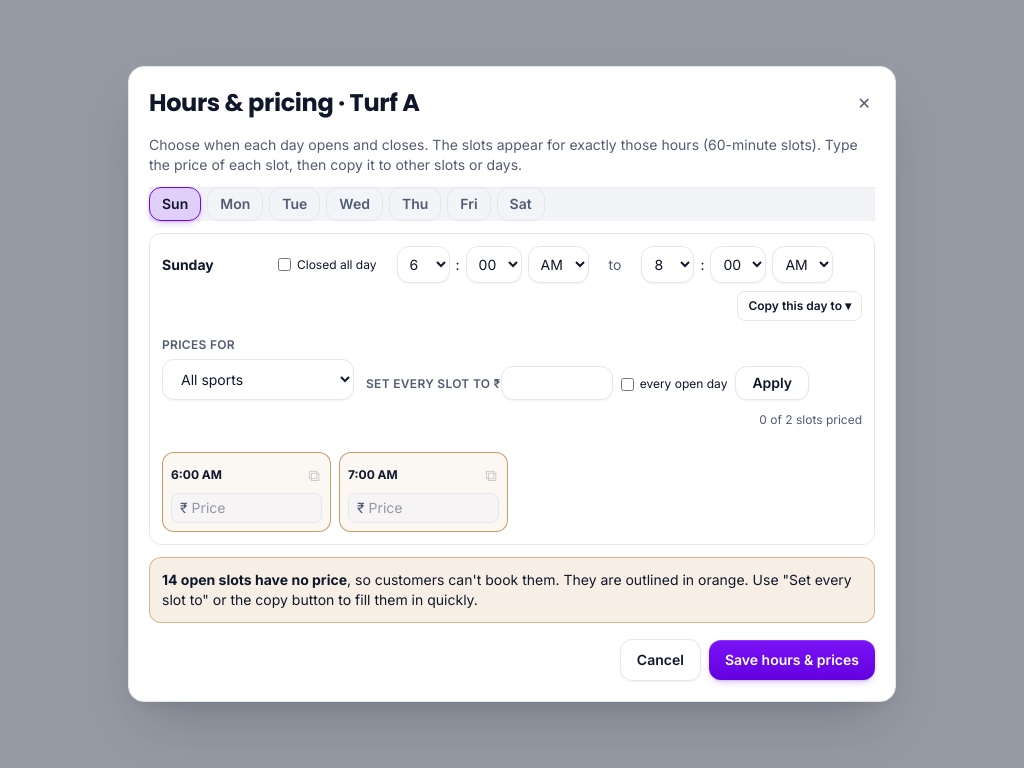
Scenario: a price under each slot › warns about open slots that have no price and counts them
Expected: the text "14 open slots have no price" is shown, top-left (162, 571), bottom-right (347, 588)
Click the tab "Mon".
click(235, 204)  # box top-left (207, 187), bottom-right (263, 221)
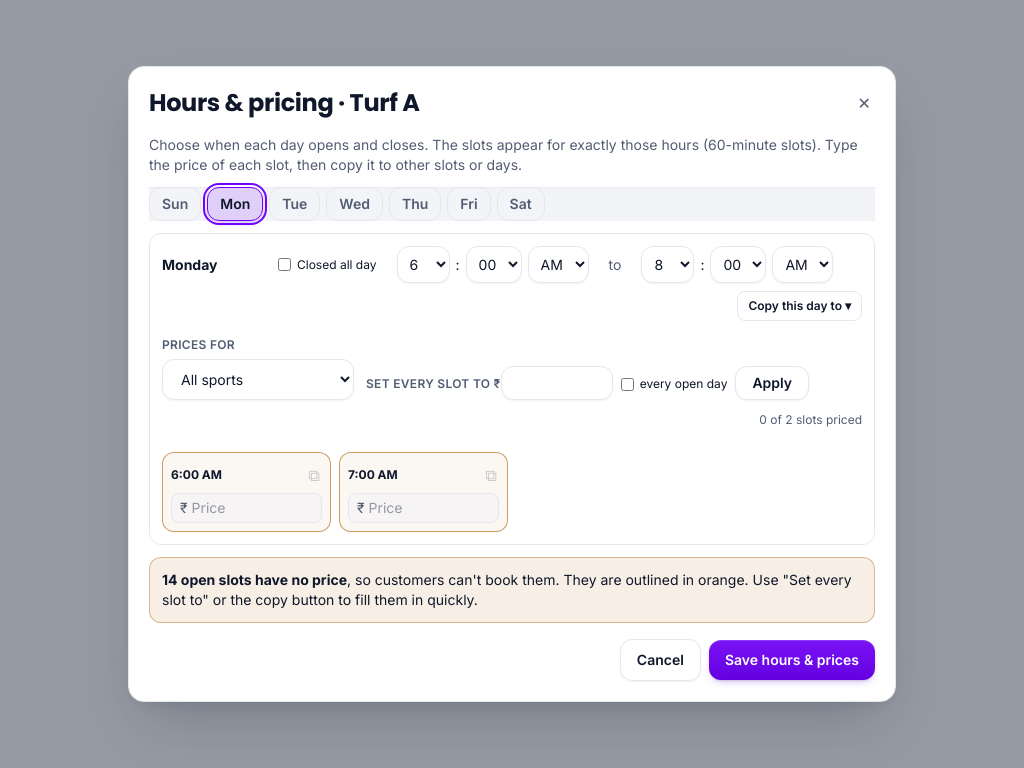
Type "500" into the number field named "Price for every slot".
click(557, 383); type("500")  # box top-left (501, 366), bottom-right (613, 400)
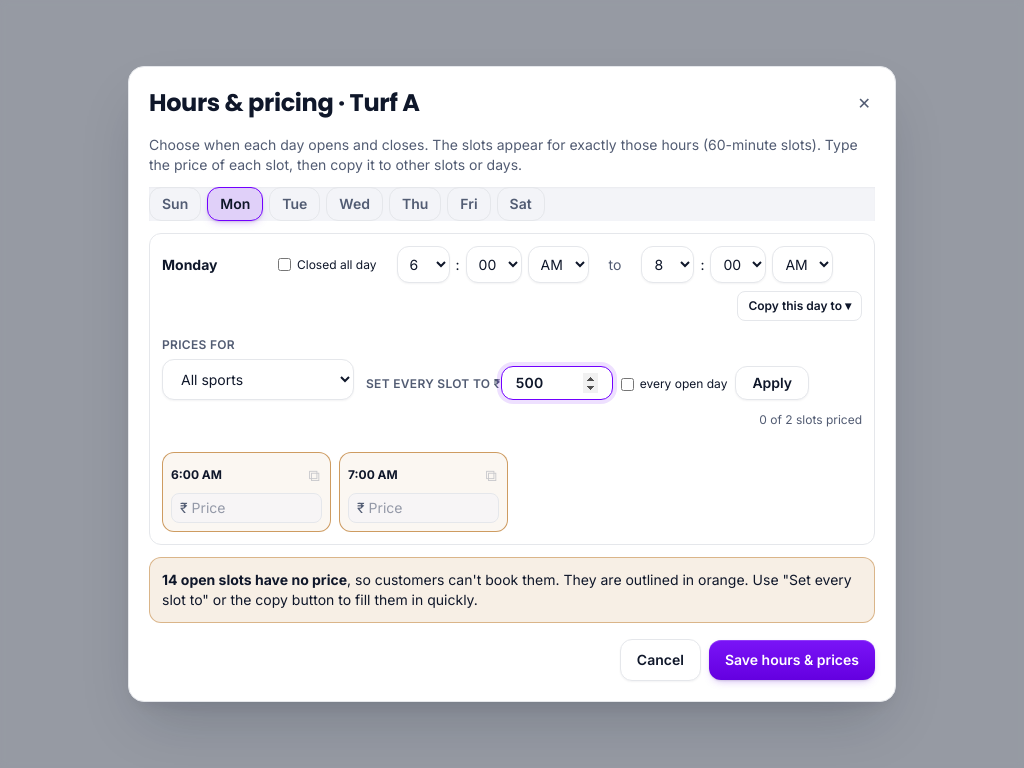
Click the checkbox labelled "every open day".
click(627, 384)  # box top-left (621, 378), bottom-right (634, 390)
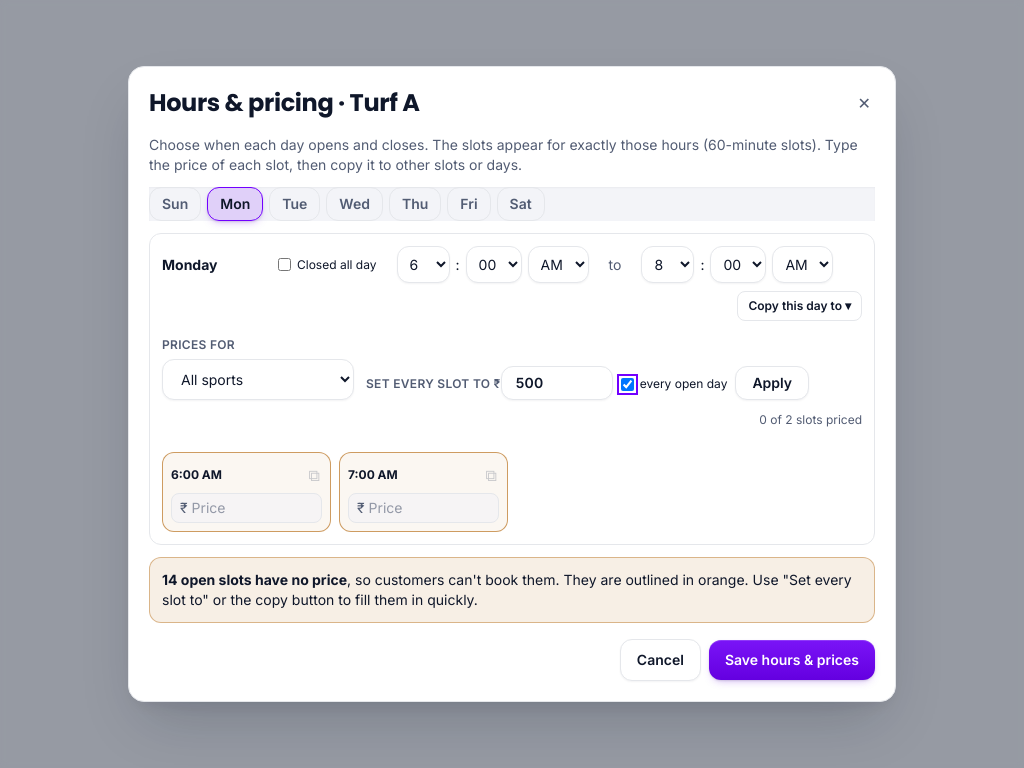
Click the button "Apply".
click(772, 383)  # box top-left (735, 366), bottom-right (809, 400)
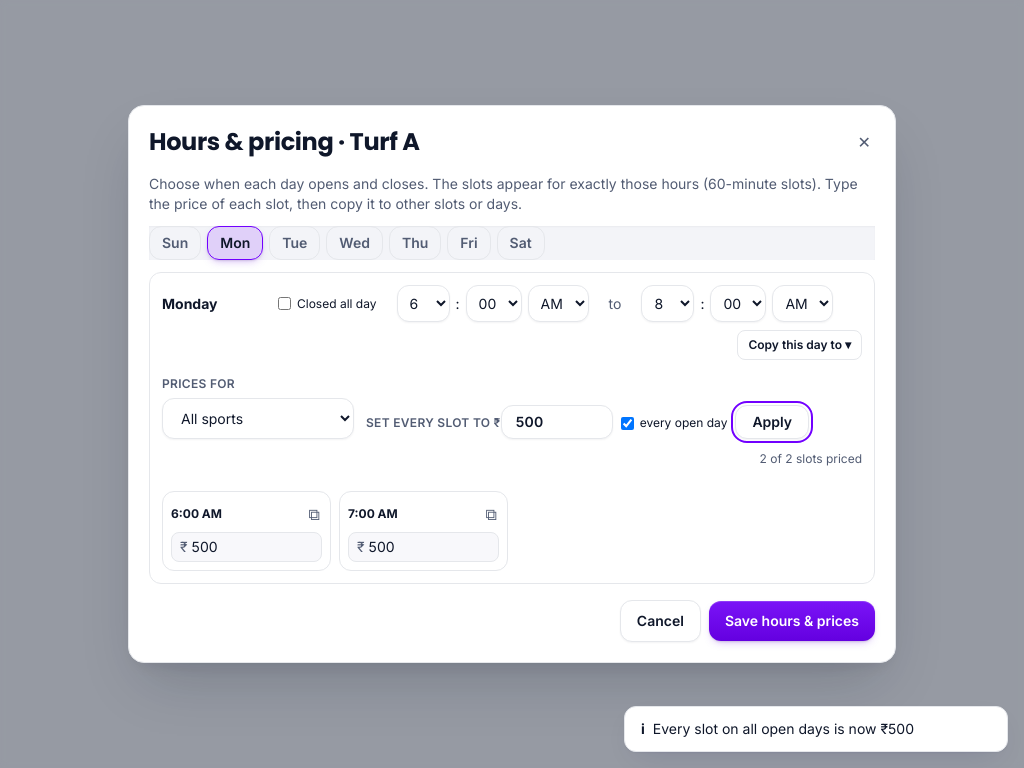
Expected: the text "14 open slots have no price" is gone
